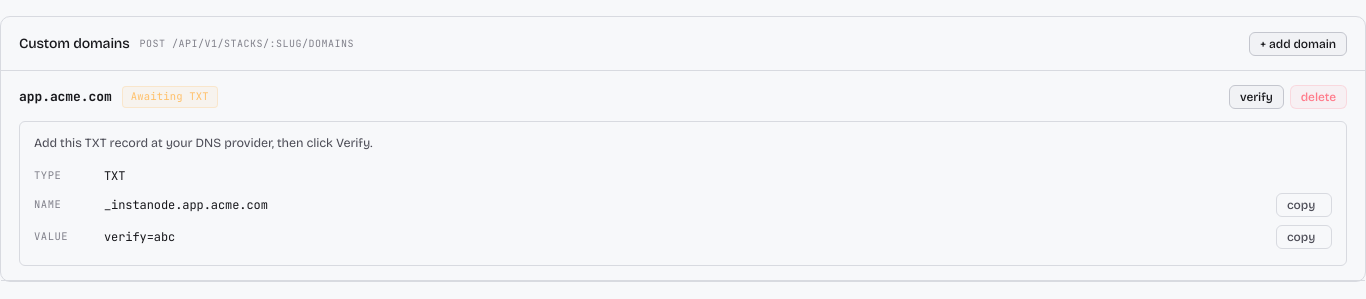
Scenario: CustomDomainPanel — DNS row copy › copies a DNS value and flips the label
expect the text "app.acme.com" is shown: met, box [19, 87, 112, 107]
Click the button with aria-label "copy value": point(1304, 237) [1276, 225, 1332, 249]
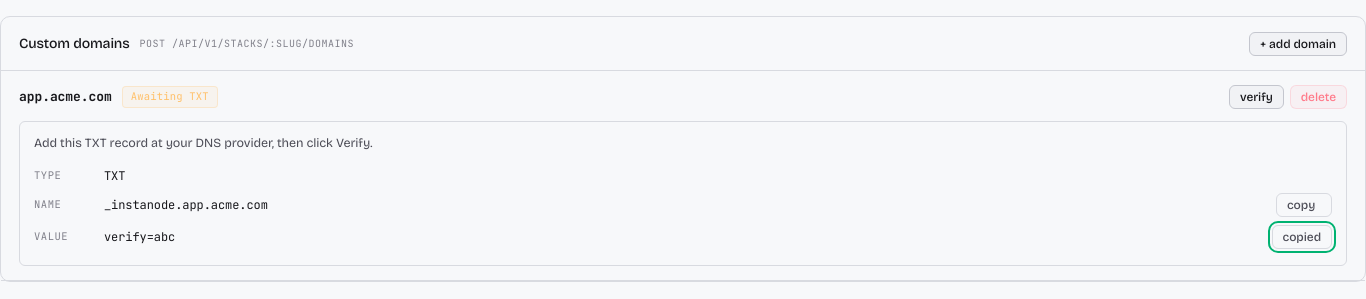
expect the button with aria-label "copy value" reads "copied": met, box [1272, 225, 1332, 249]
